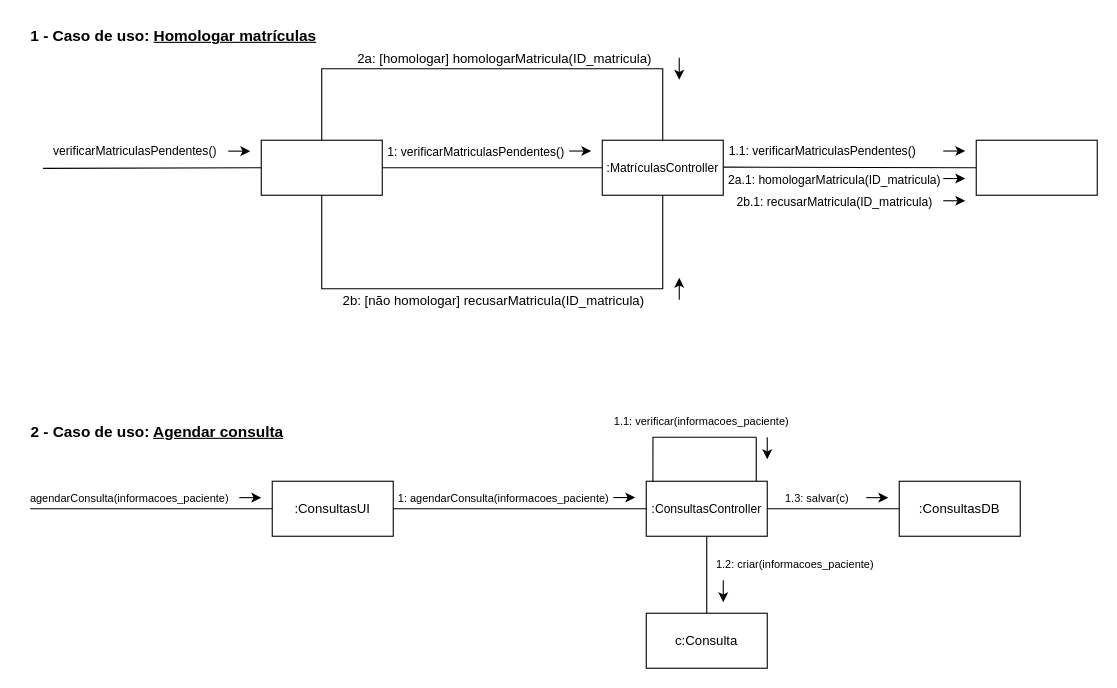
The diagram is 1117 pixels wide and 688 high, and some of its shapes have lost their labels. Each missing label, with the centre of its shape:
:MatrículasDB: the point at 1036,167
:MatrículasUI: the point at 321,167
